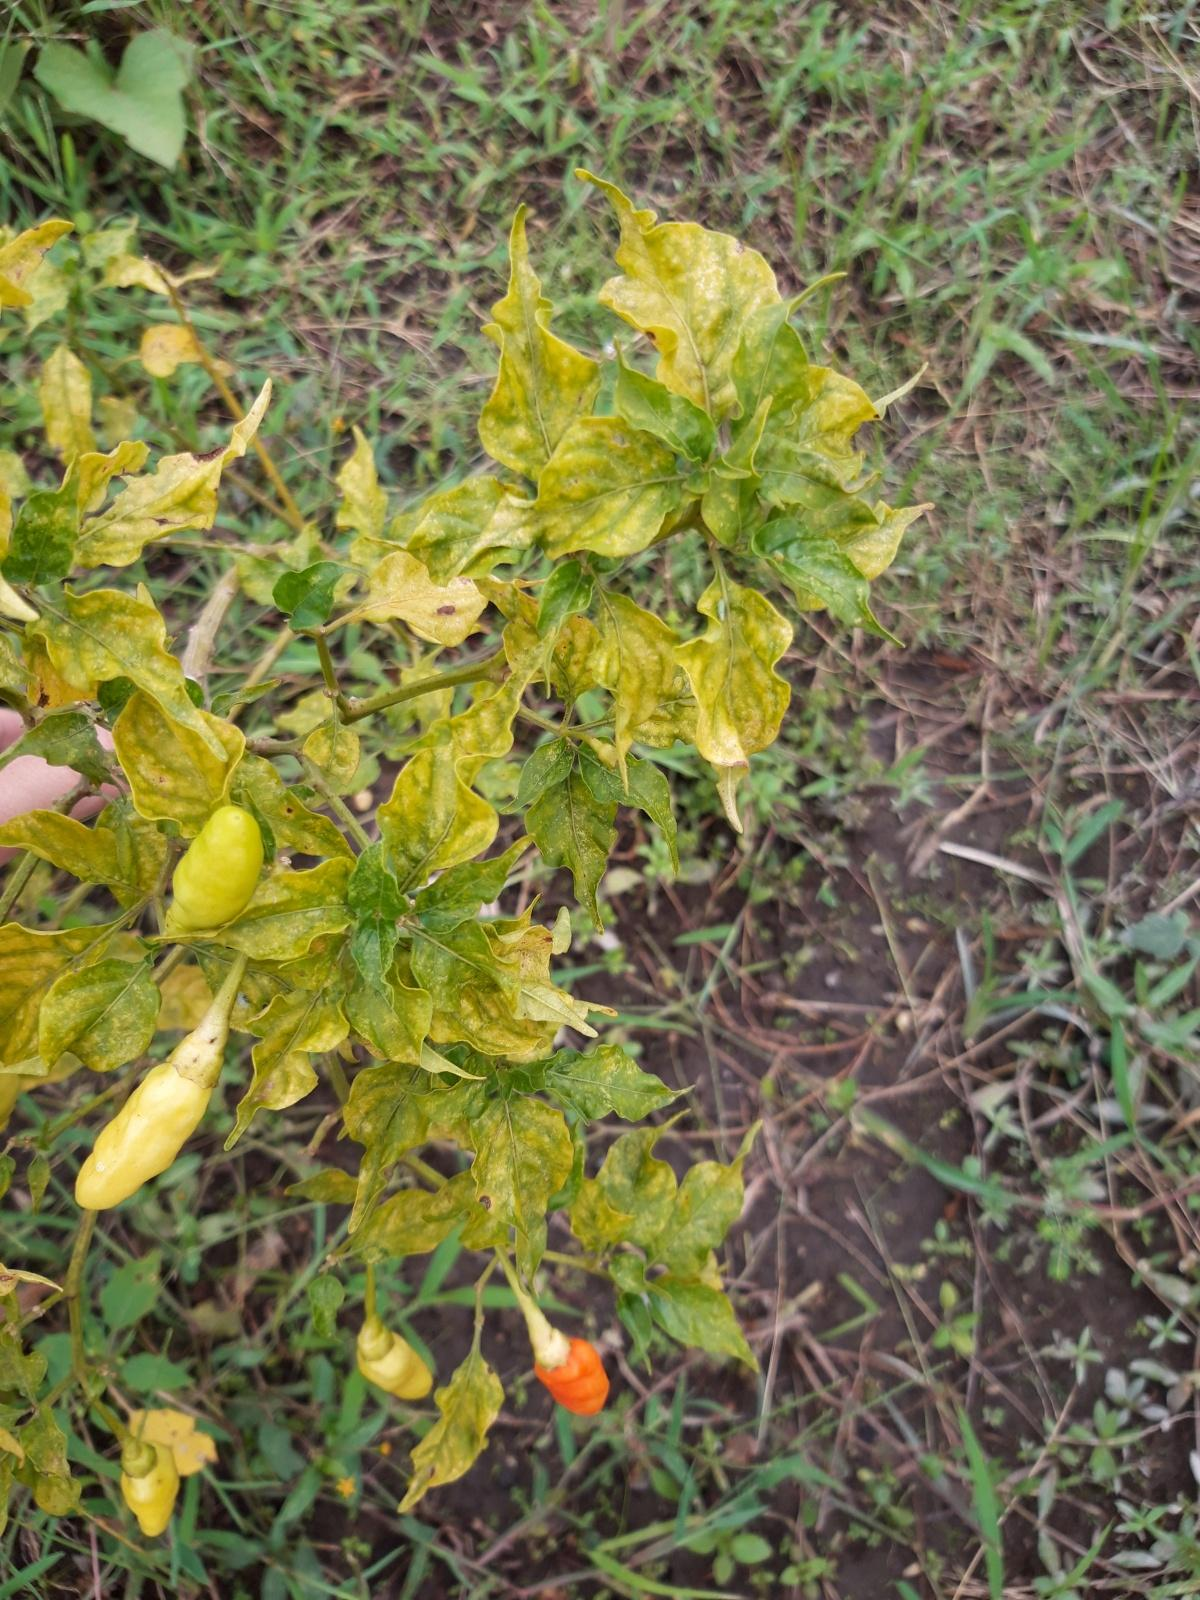cabai_normal: (75, 1064, 211, 1212), (167, 806, 265, 930), (534, 1340, 610, 1416), (121, 1442, 180, 1538), (357, 1332, 433, 1400)
